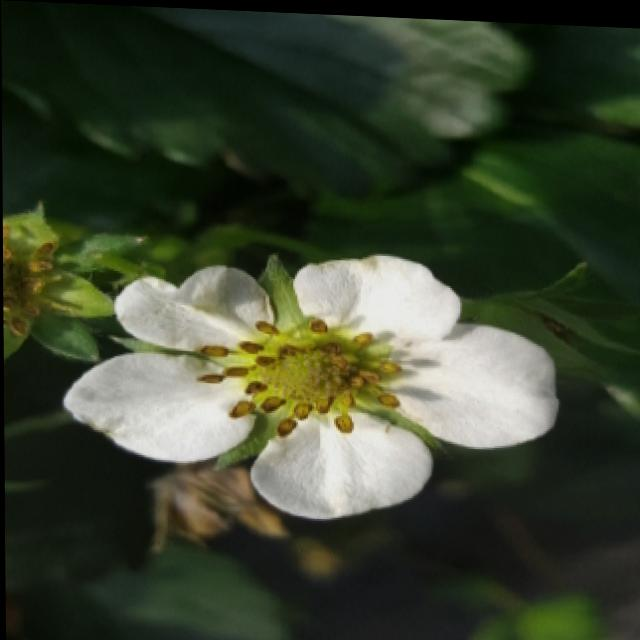Blossom Blight: (187, 310, 406, 441), (1, 219, 63, 342)
